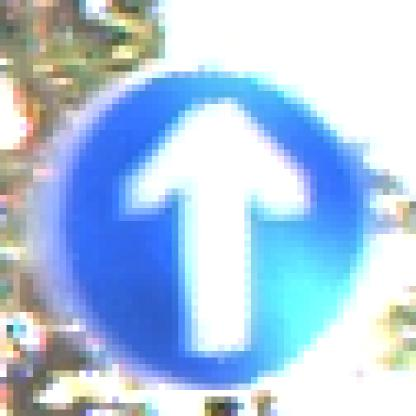AheadOnly: (41, 40, 378, 384)
